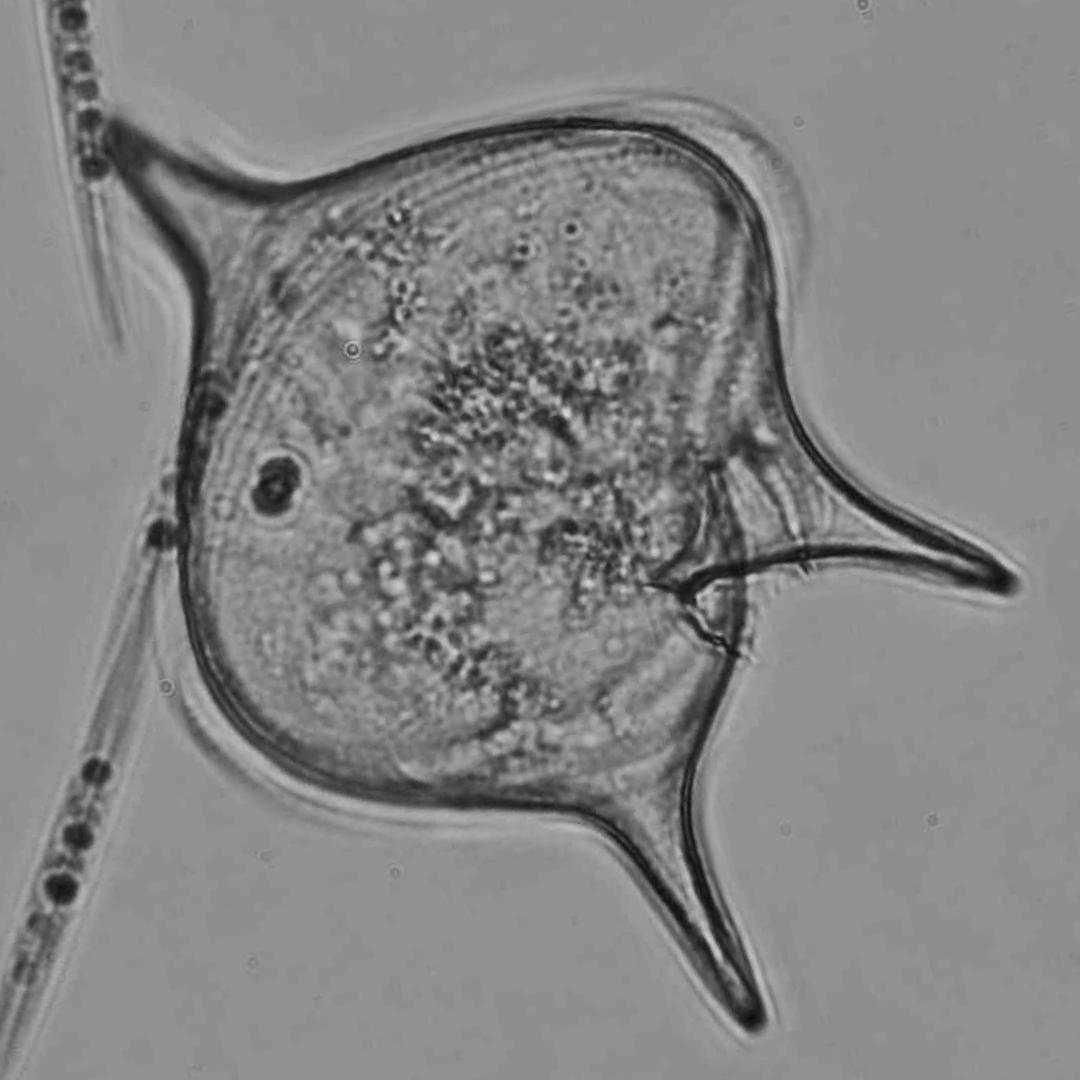protoperidinium_oceanicum: (108, 128, 995, 1016)
